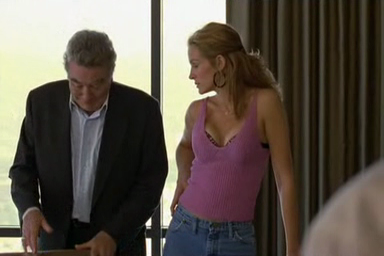face: (69, 70, 107, 112), (189, 53, 209, 96)
ms: (1, 1, 384, 256)
person: (8, 30, 169, 256), (162, 21, 306, 256)
